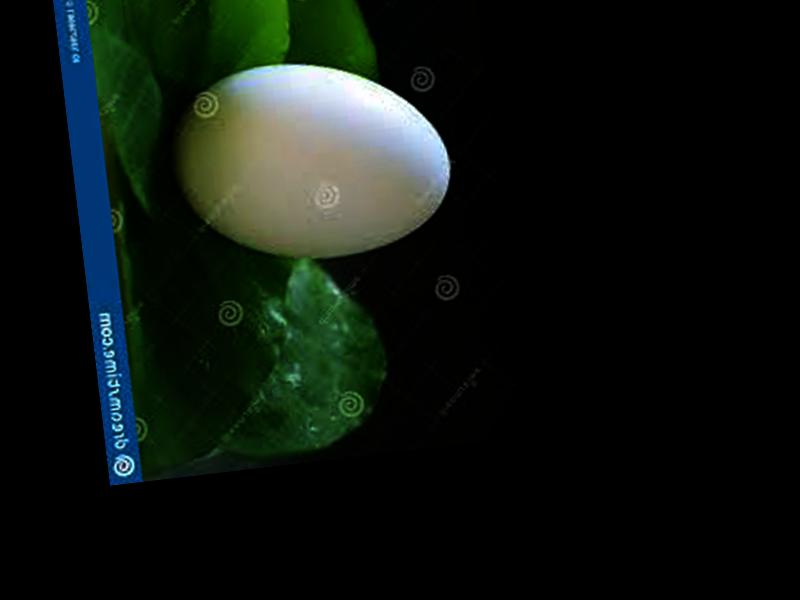Eggs: (163, 45, 459, 275)
